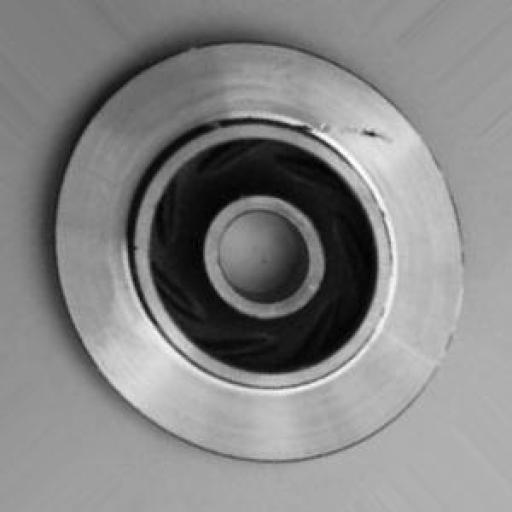defect: (246, 93, 425, 163)
